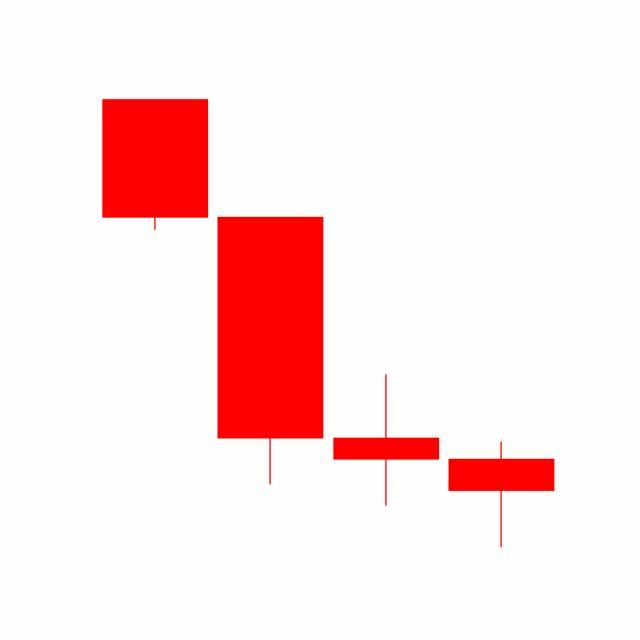Spinning Top: (329, 373, 445, 508)
